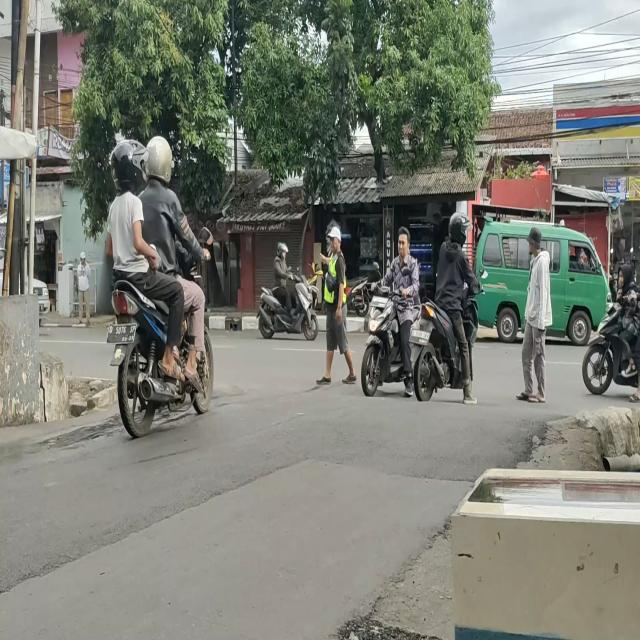helmet: (111, 139, 143, 196), (146, 129, 174, 179), (446, 212, 469, 248), (273, 241, 288, 258)
no-helmet: (388, 224, 416, 261), (617, 256, 632, 294)
